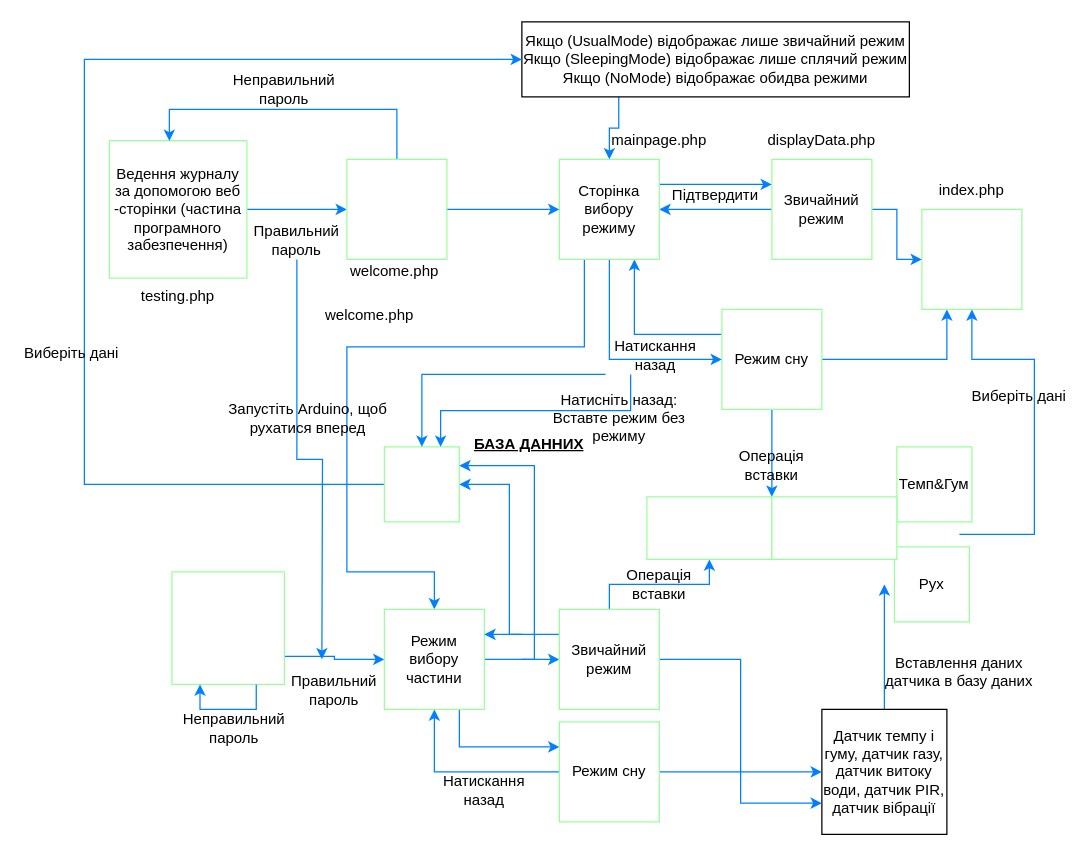
This 1090x856 diagram has some shape labels left out. Here are the shapes that lost their labels. From the top down, the box of each, then its label:
(346, 158, 447, 259): Пароль правильний
(921, 208, 1022, 309): Відобразити базу даних
(383, 446, 459, 522): Режим
(646, 496, 772, 559): Автоматизація
(771, 496, 897, 559): Стан будинку
(171, 571, 284, 684): Ведення журналу за допомогою РК -дисплея (апаратна частина)
